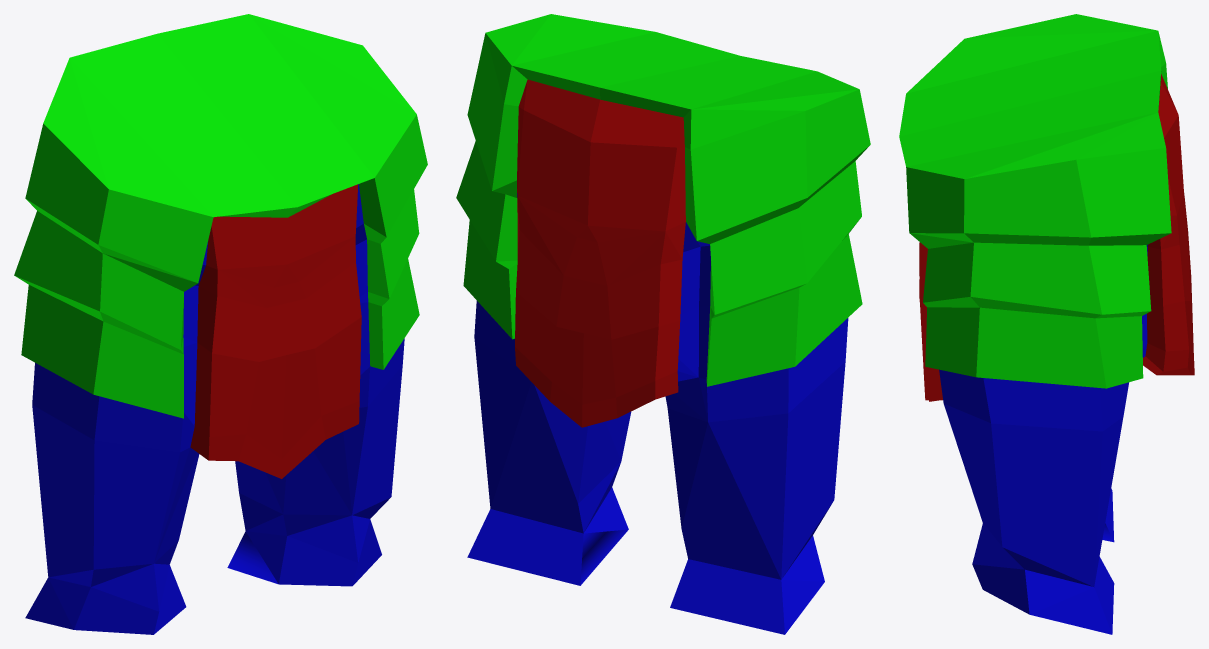
Rendered from Chr_Hips_Male_Static_19.fbx.
3 views of the same model, side by side, from view 1: azimuth 30°, elevation 25°; view 2: azimuth 150°, elevation 25°; view 3: azimuth 270°, elevation 25° (orthographic). The views are drawn at different scales.
Visible parts, largest first — view 1: Chr_Hips_Male_19; view 2: Chr_Hips_Male_19; view 3: Chr_Hips_Male_19.
Part boxes in pixels (x1,y1,x2,y2): Chr_Hips_Male_19: [14, 14, 427, 634]; Chr_Hips_Male_19: [456, 14, 870, 634]; Chr_Hips_Male_19: [899, 14, 1194, 634].
Size of the model in its own units: 38.61 by 55.45 by 30.18.
